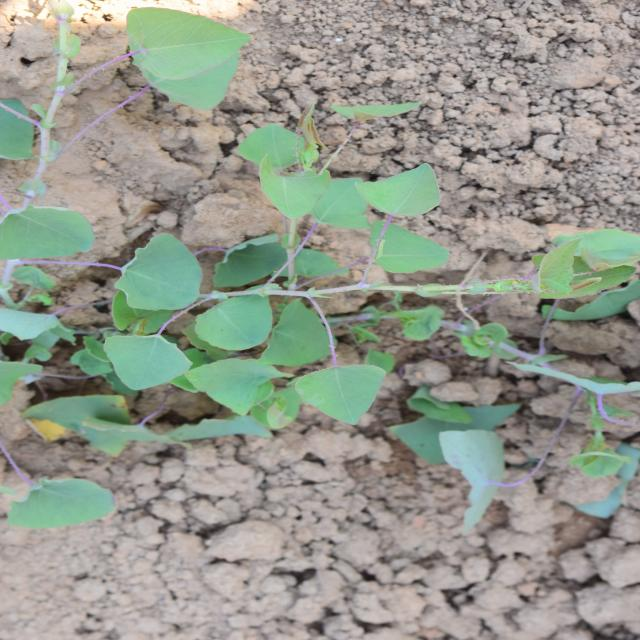Asiatic_Smartweed: (210, 76, 380, 387), (360, 216, 552, 456), (505, 97, 640, 270), (103, 4, 173, 108)
